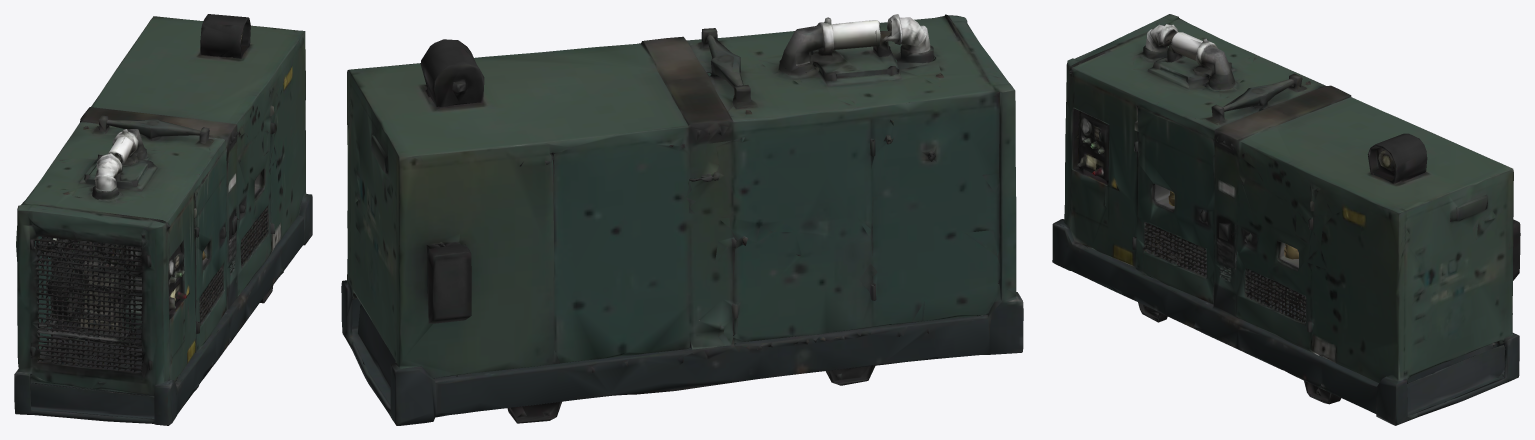
The model's file is generator.glb.
3 views of the same model, side by side, from view 1: azimuth 30°, elevation 25°; view 2: azimuth 150°, elevation 25°; view 3: azimuth 270°, elevation 25° (orthographic). The views are drawn at different scales.
Size of the model in its own units: 0.8644 by 0.5204 by 0.834.
1 material, 1 textured.
